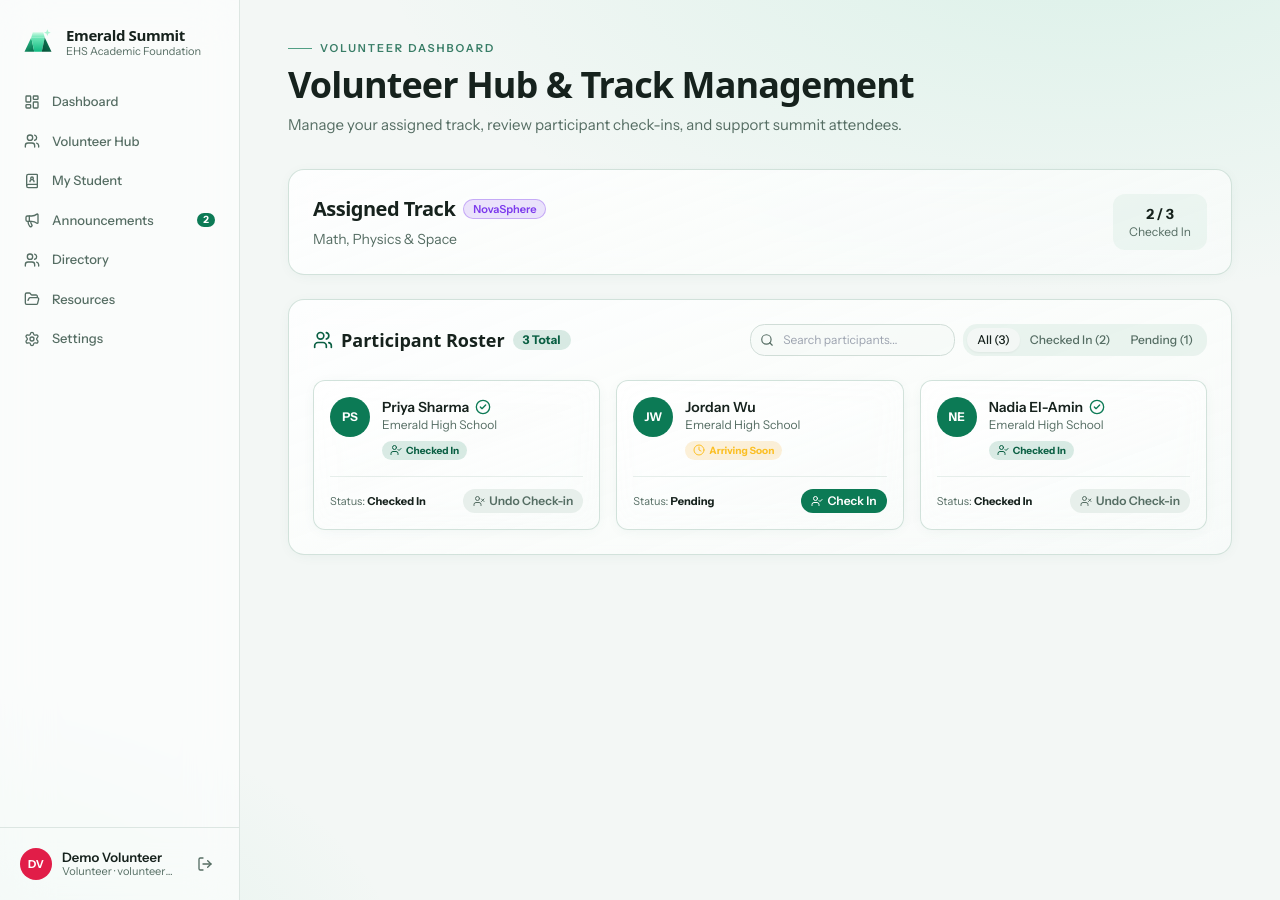
VolunteerDashboard Component Suite › Tier 1: Feature Coverage › toggles check-in status when check-in button is clicked
The width and height of the screenshot is (1280, 900).
// Click button
Click the button "Undo Check-in" below "PS" at (523, 501), box [463,489,583,513]
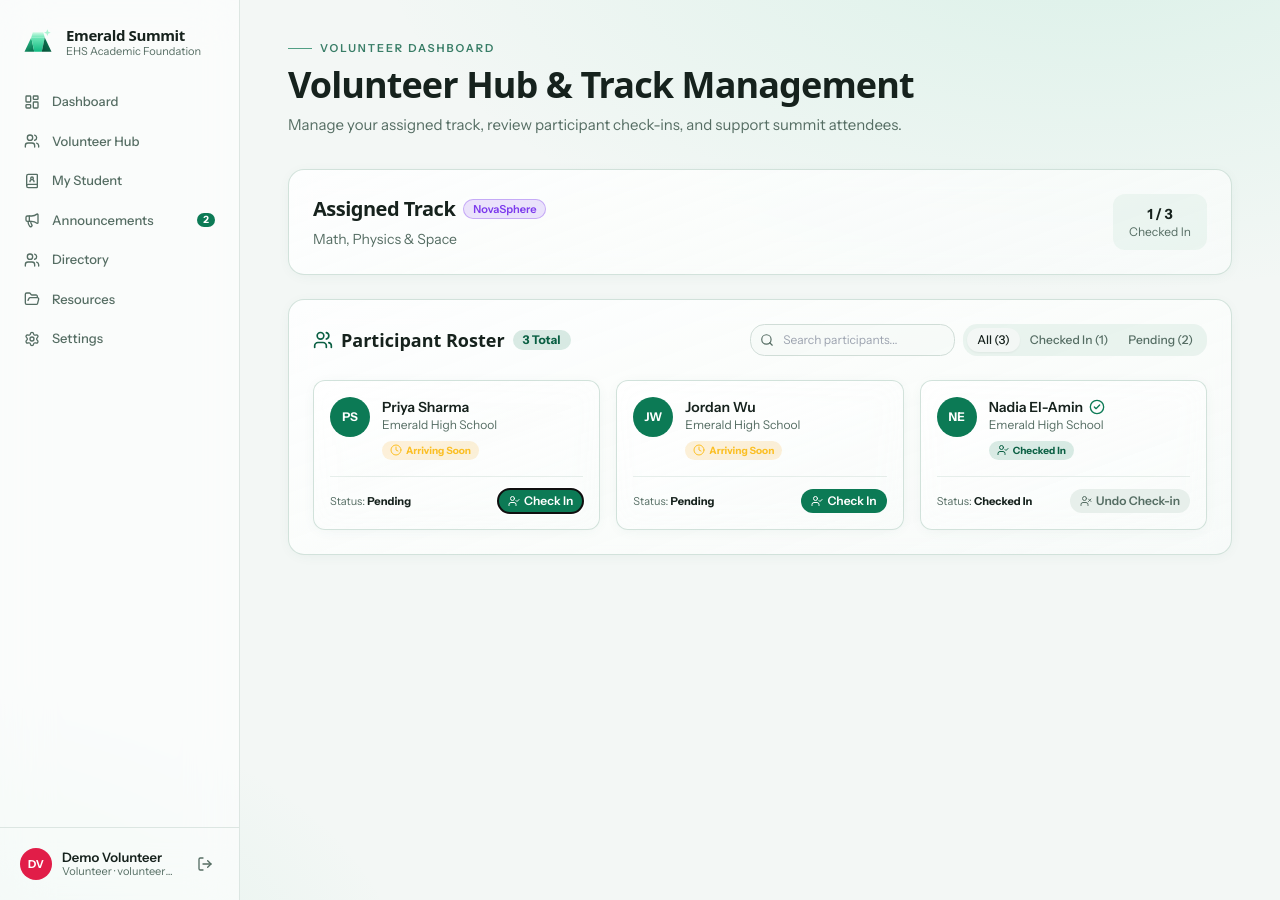
Check: the button "Check In" below "PS" is shown, box [498,489,583,513]
